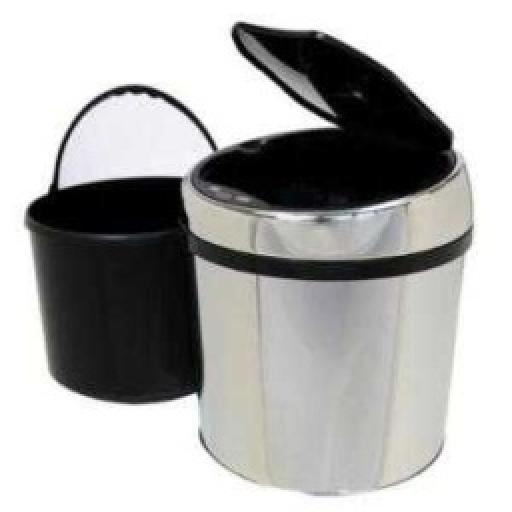trash-can: (182, 0, 484, 506)
